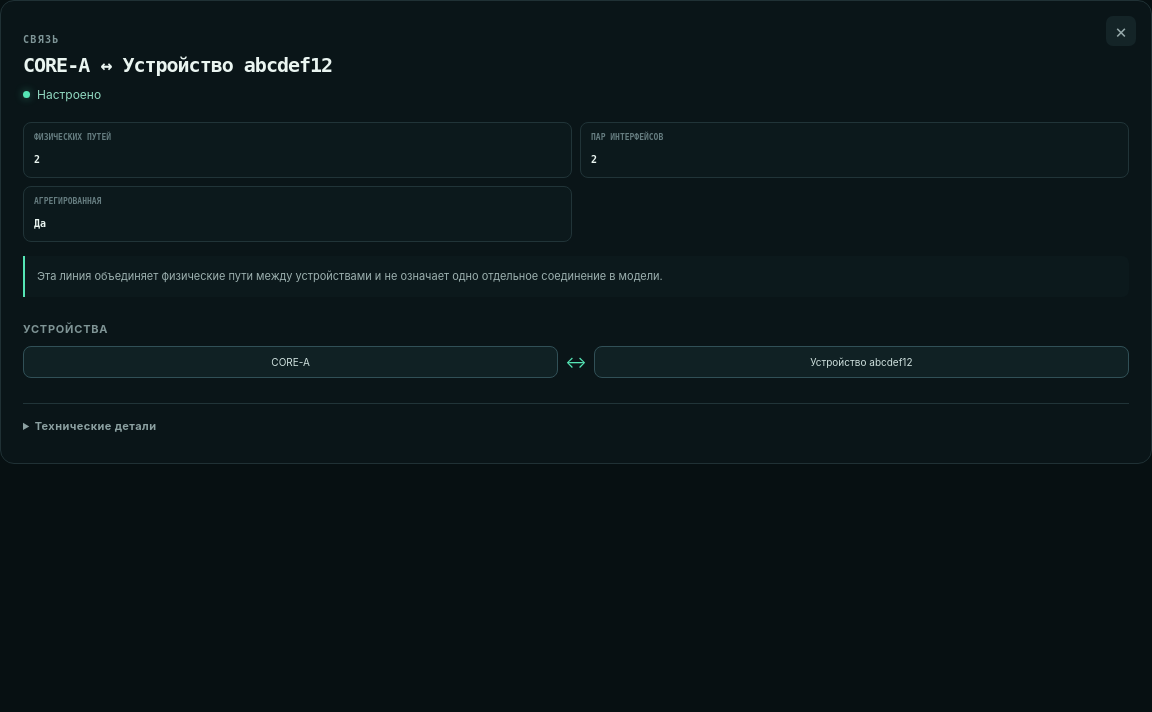
Scenario: Inspector › keeps raw source refs and projection IDs in collapsed technical details
Click the heading "Технические детали" at (96, 426), box [35, 419, 156, 433]
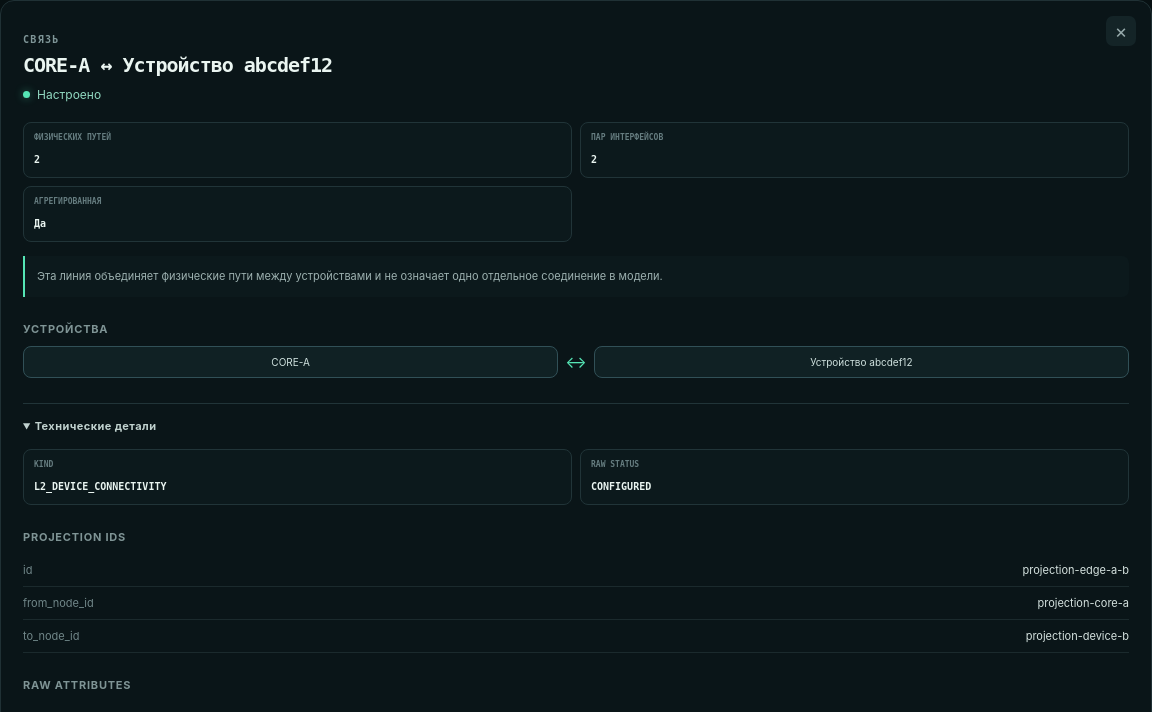
Check: the text "projection-edge-a-b" is shown, box [1023, 563, 1129, 577]
Check: the text "L2_DEVICE_CONNECTIVITY" is shown, box [34, 481, 166, 492]
